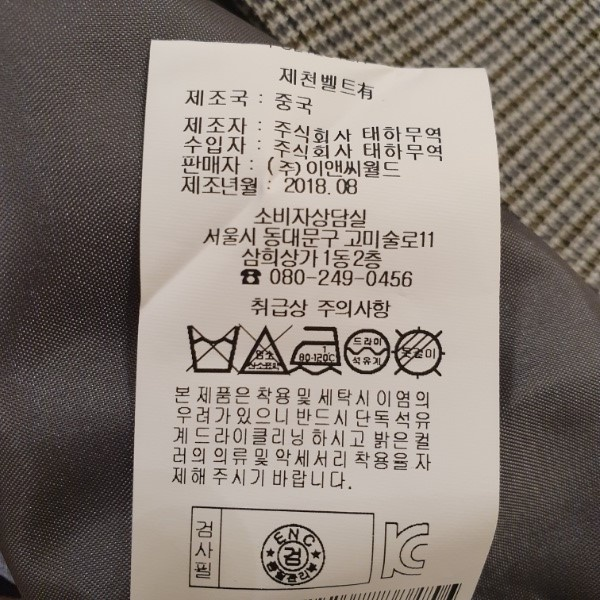KR_dry_clean_petroleum: (342, 320, 392, 378)
KR_hang_dry_in_shade: (392, 323, 444, 378)
KR_iron_low_temp_with_cloth: (289, 319, 342, 378)
KR_no_bleach: (239, 322, 288, 376)
KR_no_wash: (185, 315, 239, 378)
